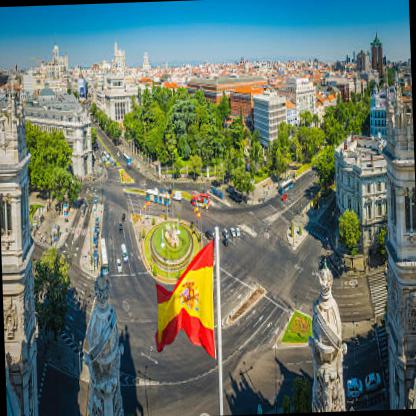es: (151, 242, 220, 361)
